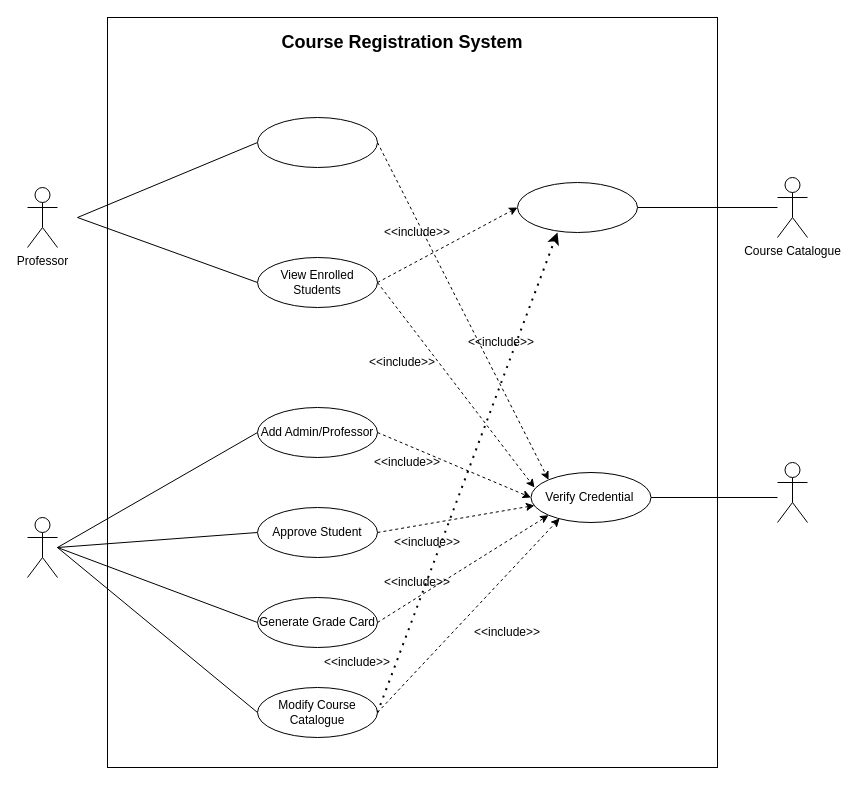
Some shapes in this 858 by 785 pixel diagram are drawn without their labels. The shapes that lost their labels are listed below. From the top down, each one's centre as x and y in pixels, then its label:
point 317,142: Add Grade
point 577,207: View Course
point 792,492: Author Credentials DB
point 42,547: Admin
